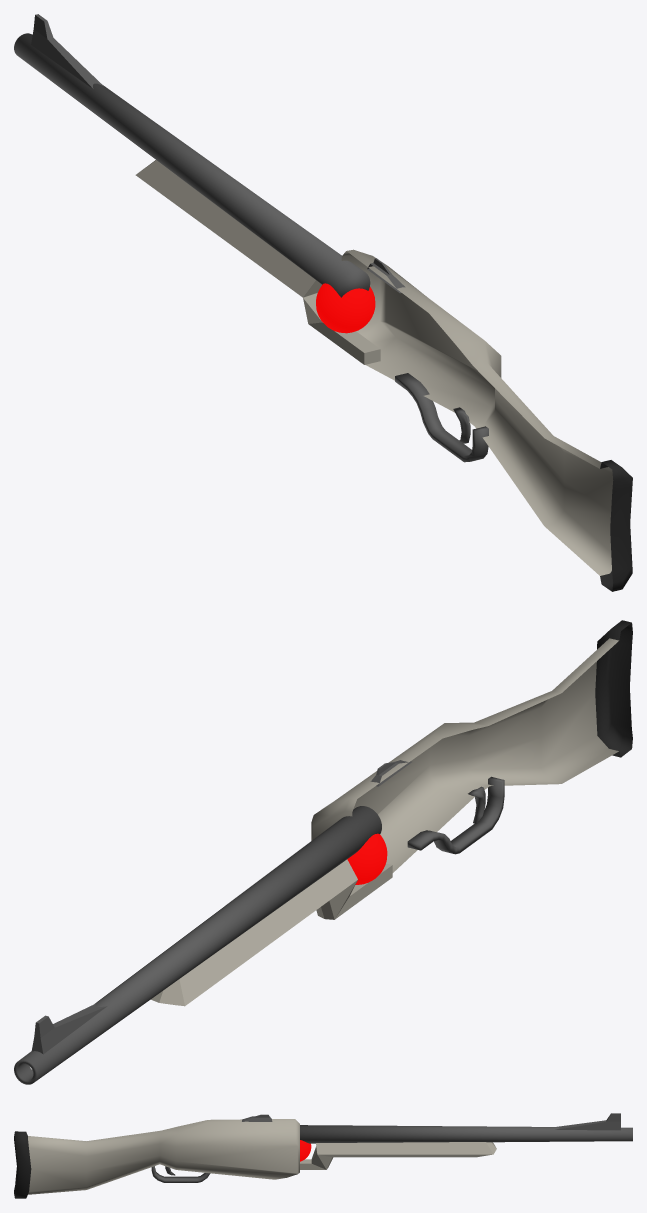
The model's file is dmr.glb.
3 renders of one model, top to bottom at view 1: azimuth 30°, elevation 25°; view 2: azimuth 150°, elevation 25°; view 3: azimuth 270°, elevation 25°, orthographic. The views are drawn at different scales.
Visible parts, largest first — view 1: Cube.001, Cylinder, Cube, Plane, Sphere, Cube.002; view 2: Cube.001, Cylinder, Cube, Plane, Cube.002, Sphere; view 3: Cube.001, Cylinder, Cube, Cube.002, Plane, Sphere, Cube.004.
Boxes of the visible parts, left/top/right/bottom form: Cube.001: left=341, top=249, right=632, bottom=591; Cylinder: left=14, top=33, right=370, bottom=297; Cube: left=135, top=160, right=380, bottom=364; Plane: left=395, top=373, right=488, bottom=462; Sphere: left=316, top=283, right=375, bottom=333; Cube.002: left=31, top=14, right=103, bottom=89; Cube.001: left=311, top=620, right=632, bottom=872; Cylinder: left=14, top=806, right=381, bottom=1084; Cube: left=151, top=859, right=392, bottom=1006; Plane: left=407, top=776, right=504, bottom=854; Cube.002: left=31, top=1003, right=107, bottom=1054; Sphere: left=347, top=833, right=387, bottom=884; Cube.001: left=14, top=1119, right=299, bottom=1198; Cylinder: left=300, top=1125, right=632, bottom=1143; Cube: left=300, top=1142, right=496, bottom=1169; Cube.002: left=555, top=1113, right=620, bottom=1130; Plane: left=151, top=1166, right=210, bottom=1182; Sphere: left=300, top=1140, right=311, bottom=1161; Cube.004: left=242, top=1114, right=272, bottom=1121.
Size of the model in its own units: 0.0936 by 0.2062 by 1.4.
